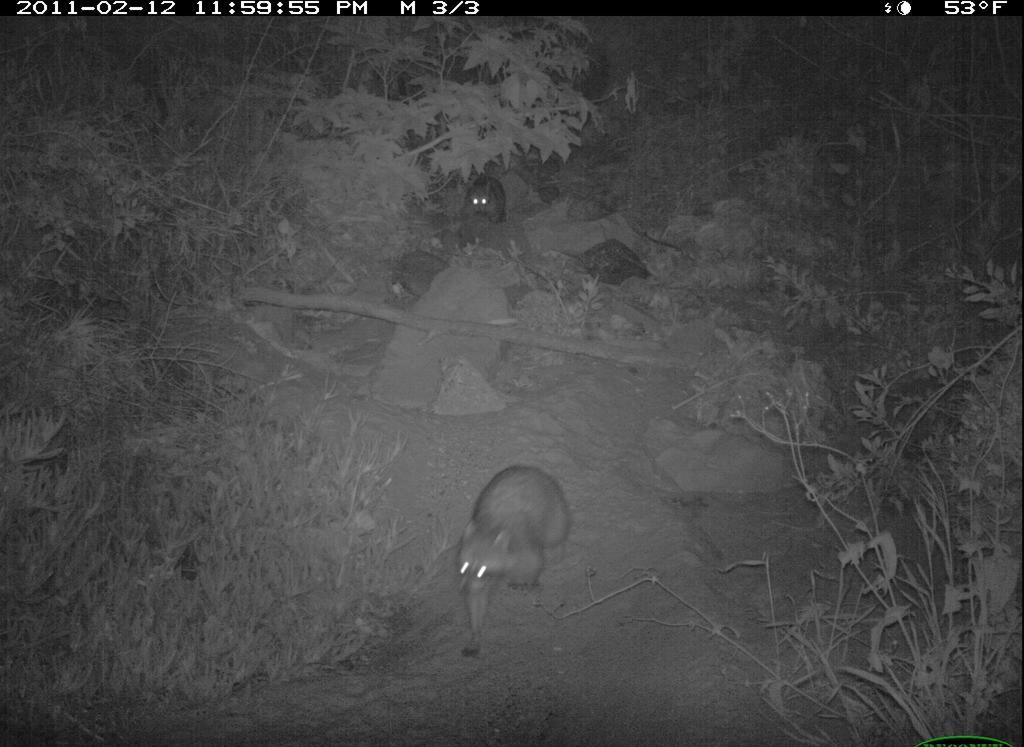raccoon: (445, 449, 583, 687), (456, 157, 516, 239)
